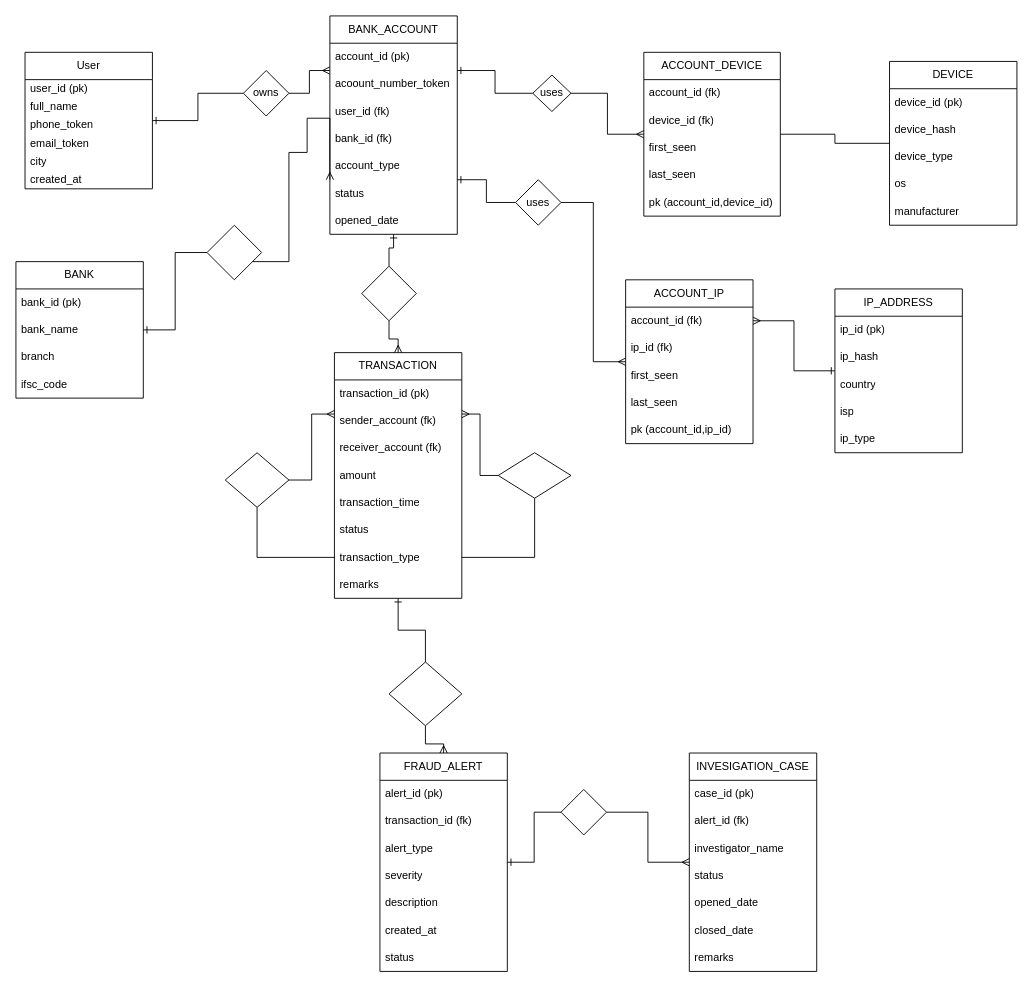
Some shapes in this 1033 by 987 pixel diagram are drawn without their labels. Each missing label, with the centre of its shape:
"generates" goes at point 425,693.
"has" goes at point 234,252.
"initiates" goes at point 388,293.
"leads_to" goes at point 583,812.
"received_by" goes at point 534,475.
"sent_from" goes at point 256,479.
